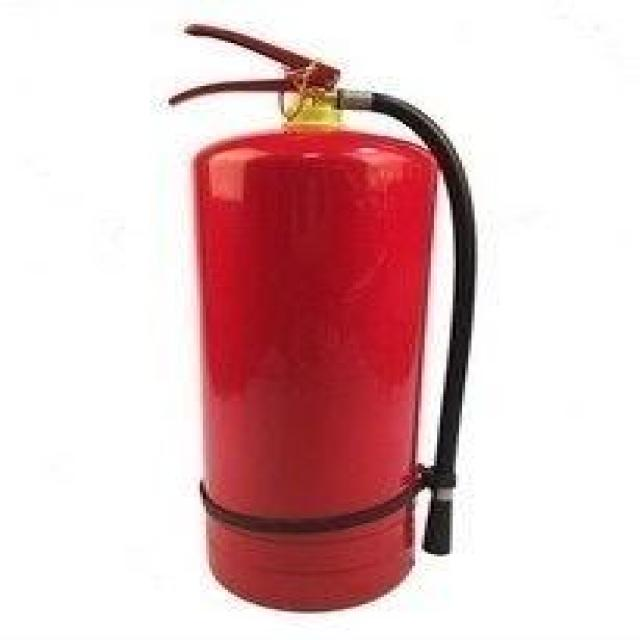fire_extinguisher: (152, 13, 488, 615)
